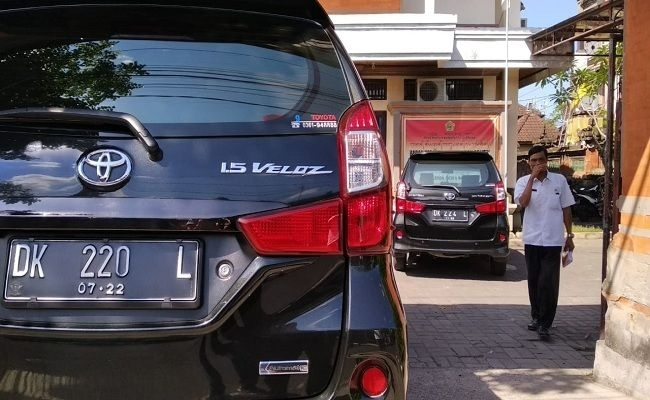plate: (5, 239, 197, 303), (432, 208, 468, 224)
